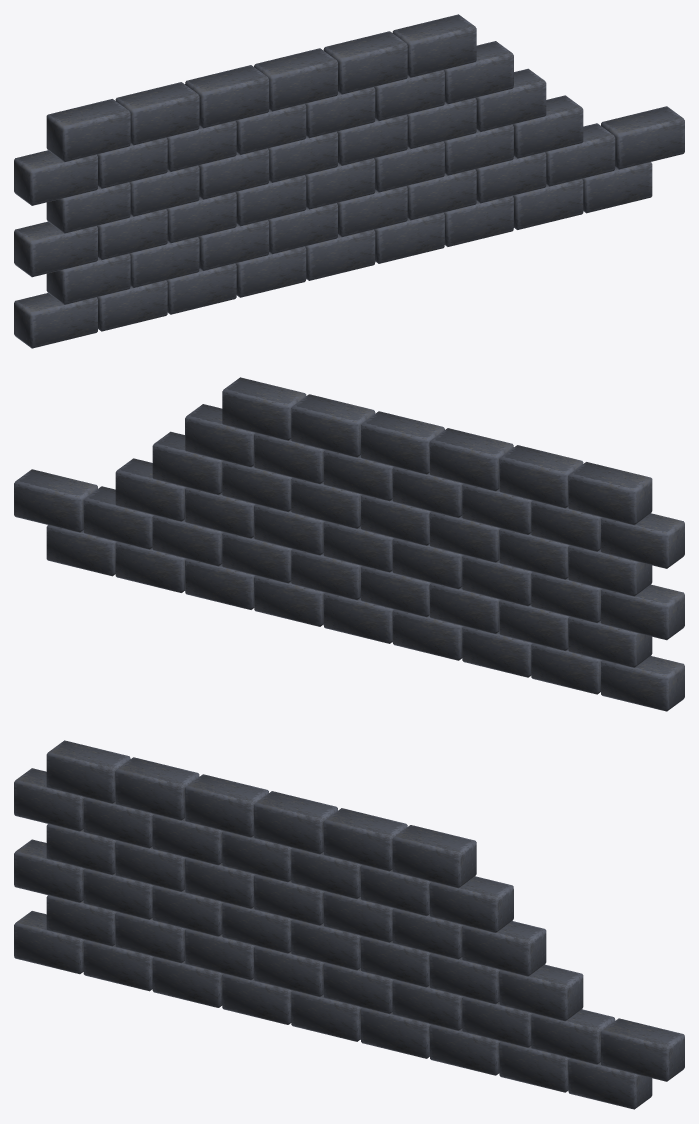
Rendered from SM_Wall_Broken1.fbx.
3 views of the same model, one above another, from view 1: azimuth 30°, elevation 25°; view 2: azimuth 150°, elevation 25°; view 3: azimuth 330°, elevation 25° (orthographic).
Visible parts, largest first — view 1: Cube.003; view 2: Cube.003; view 3: Cube.003.
Boxes of the visible parts, x1=… form: Cube.003: x1=14, y1=14, x2=684, y2=348; Cube.003: x1=14, y1=377, x2=684, y2=711; Cube.003: x1=14, y1=740, x2=684, y2=1109.
Size of the model in its own units: 1008 by 315 by 50.55.
